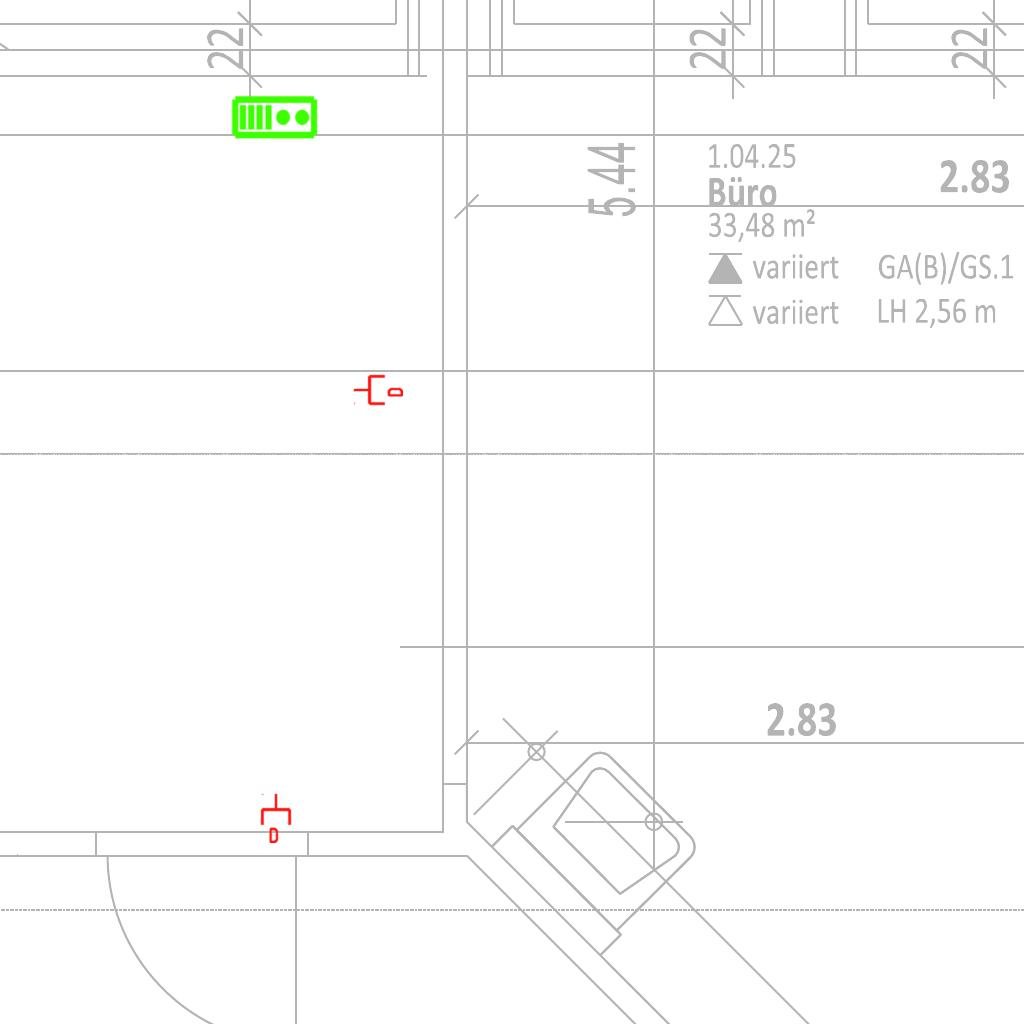Datenanschluss_einfach: (353, 373, 403, 407), (259, 793, 293, 843)
Gegensprechanlage_mit_Video: (231, 93, 319, 140)
